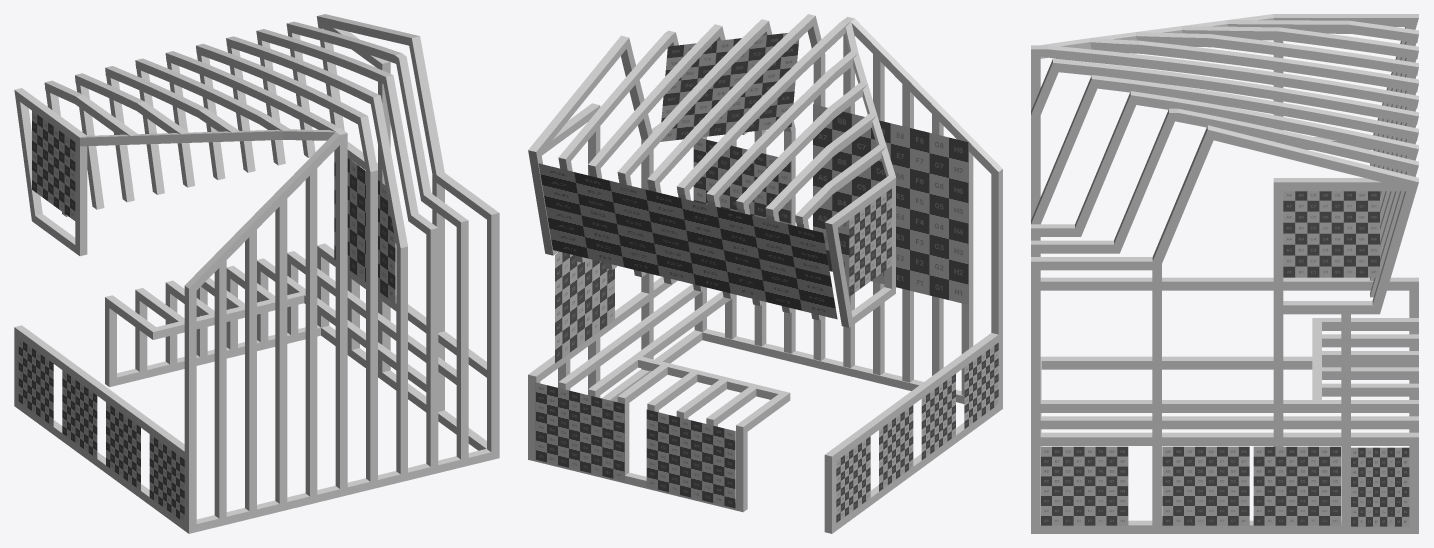
The model's file is Booth1_Blank.glb.
The picture shows the model from 3 angles, left to right: view 1: azimuth 30°, elevation 25°; view 2: azimuth 150°, elevation 25°; view 3: azimuth 270°, elevation 25°; orthographic projection. The views are drawn at different scales.
Visible parts, largest first — view 1: Object_1, Left, Big Right, Left Top; view 2: Object_1, Front Up, BACK BIGG, Front, Left, BACK TOP CRUX, Big Right, BACK SMALL, Left Top; view 3: Object_1, Right, Right Top 1.
Boxes of the visible parts, <box> form: Object_1: <box>14,14,499,533</box>; Left: <box>18,338,184,522</box>; Big Right: <box>334,150,395,303</box>; Left Top: <box>32,111,75,220</box>; Object_1: <box>528,14,1002,533</box>; Front Up: <box>538,163,837,319</box>; BACK BIGG: <box>813,104,968,304</box>; Front: <box>535,382,735,508</box>; Left: <box>836,342,998,522</box>; BACK TOP CRUX: <box>660,33,799,141</box>; Big Right: <box>555,251,614,363</box>; BACK SMALL: <box>693,138,790,224</box>; Left Top: <box>849,188,891,296</box>; Object_1: <box>1031,14,1418,533</box>; Right: <box>1041,446,1409,526</box>; Right Top 1: <box>1283,191,1379,277</box>.
Size of the model in its own units: 3.32 by 3.69 by 3.21.
Materials: 2 (1 with a texture image).
